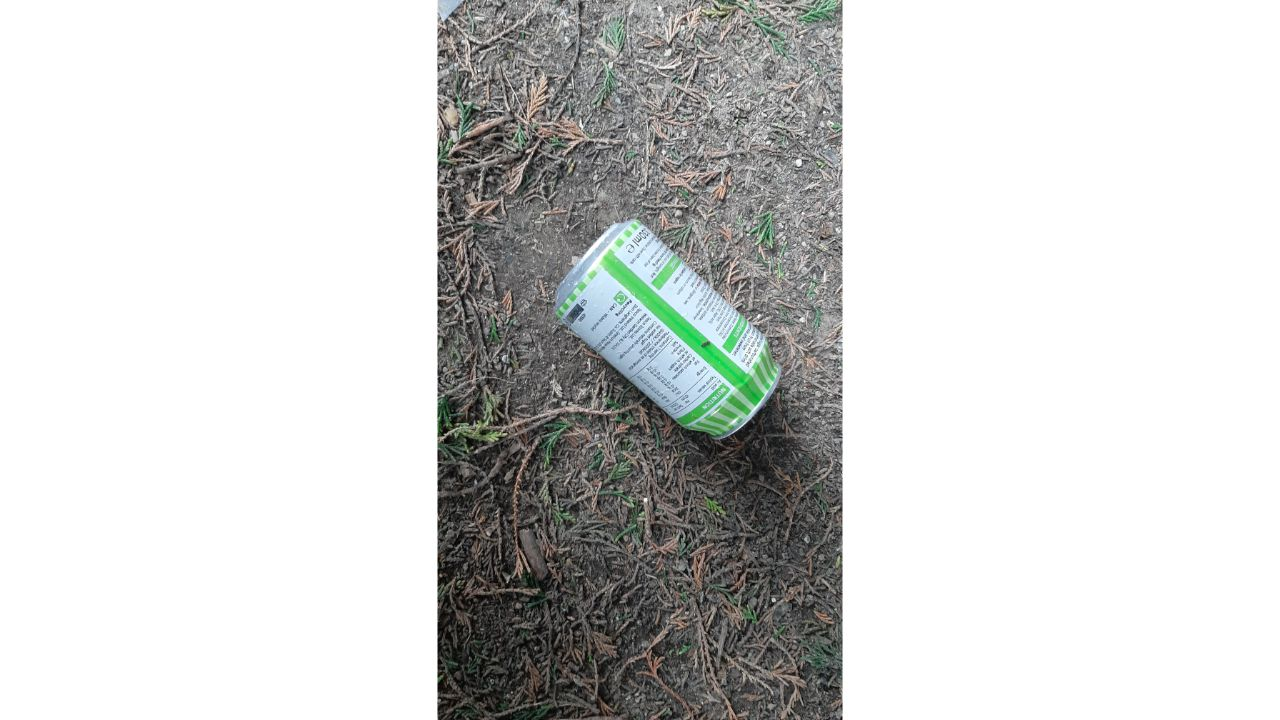Can: (537, 208, 793, 458)
